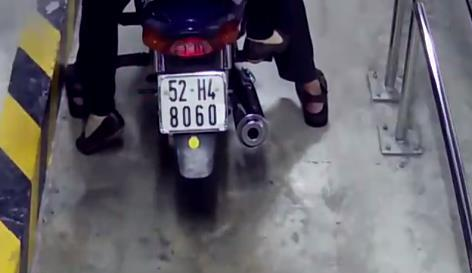lisence: (157, 72, 227, 132)
